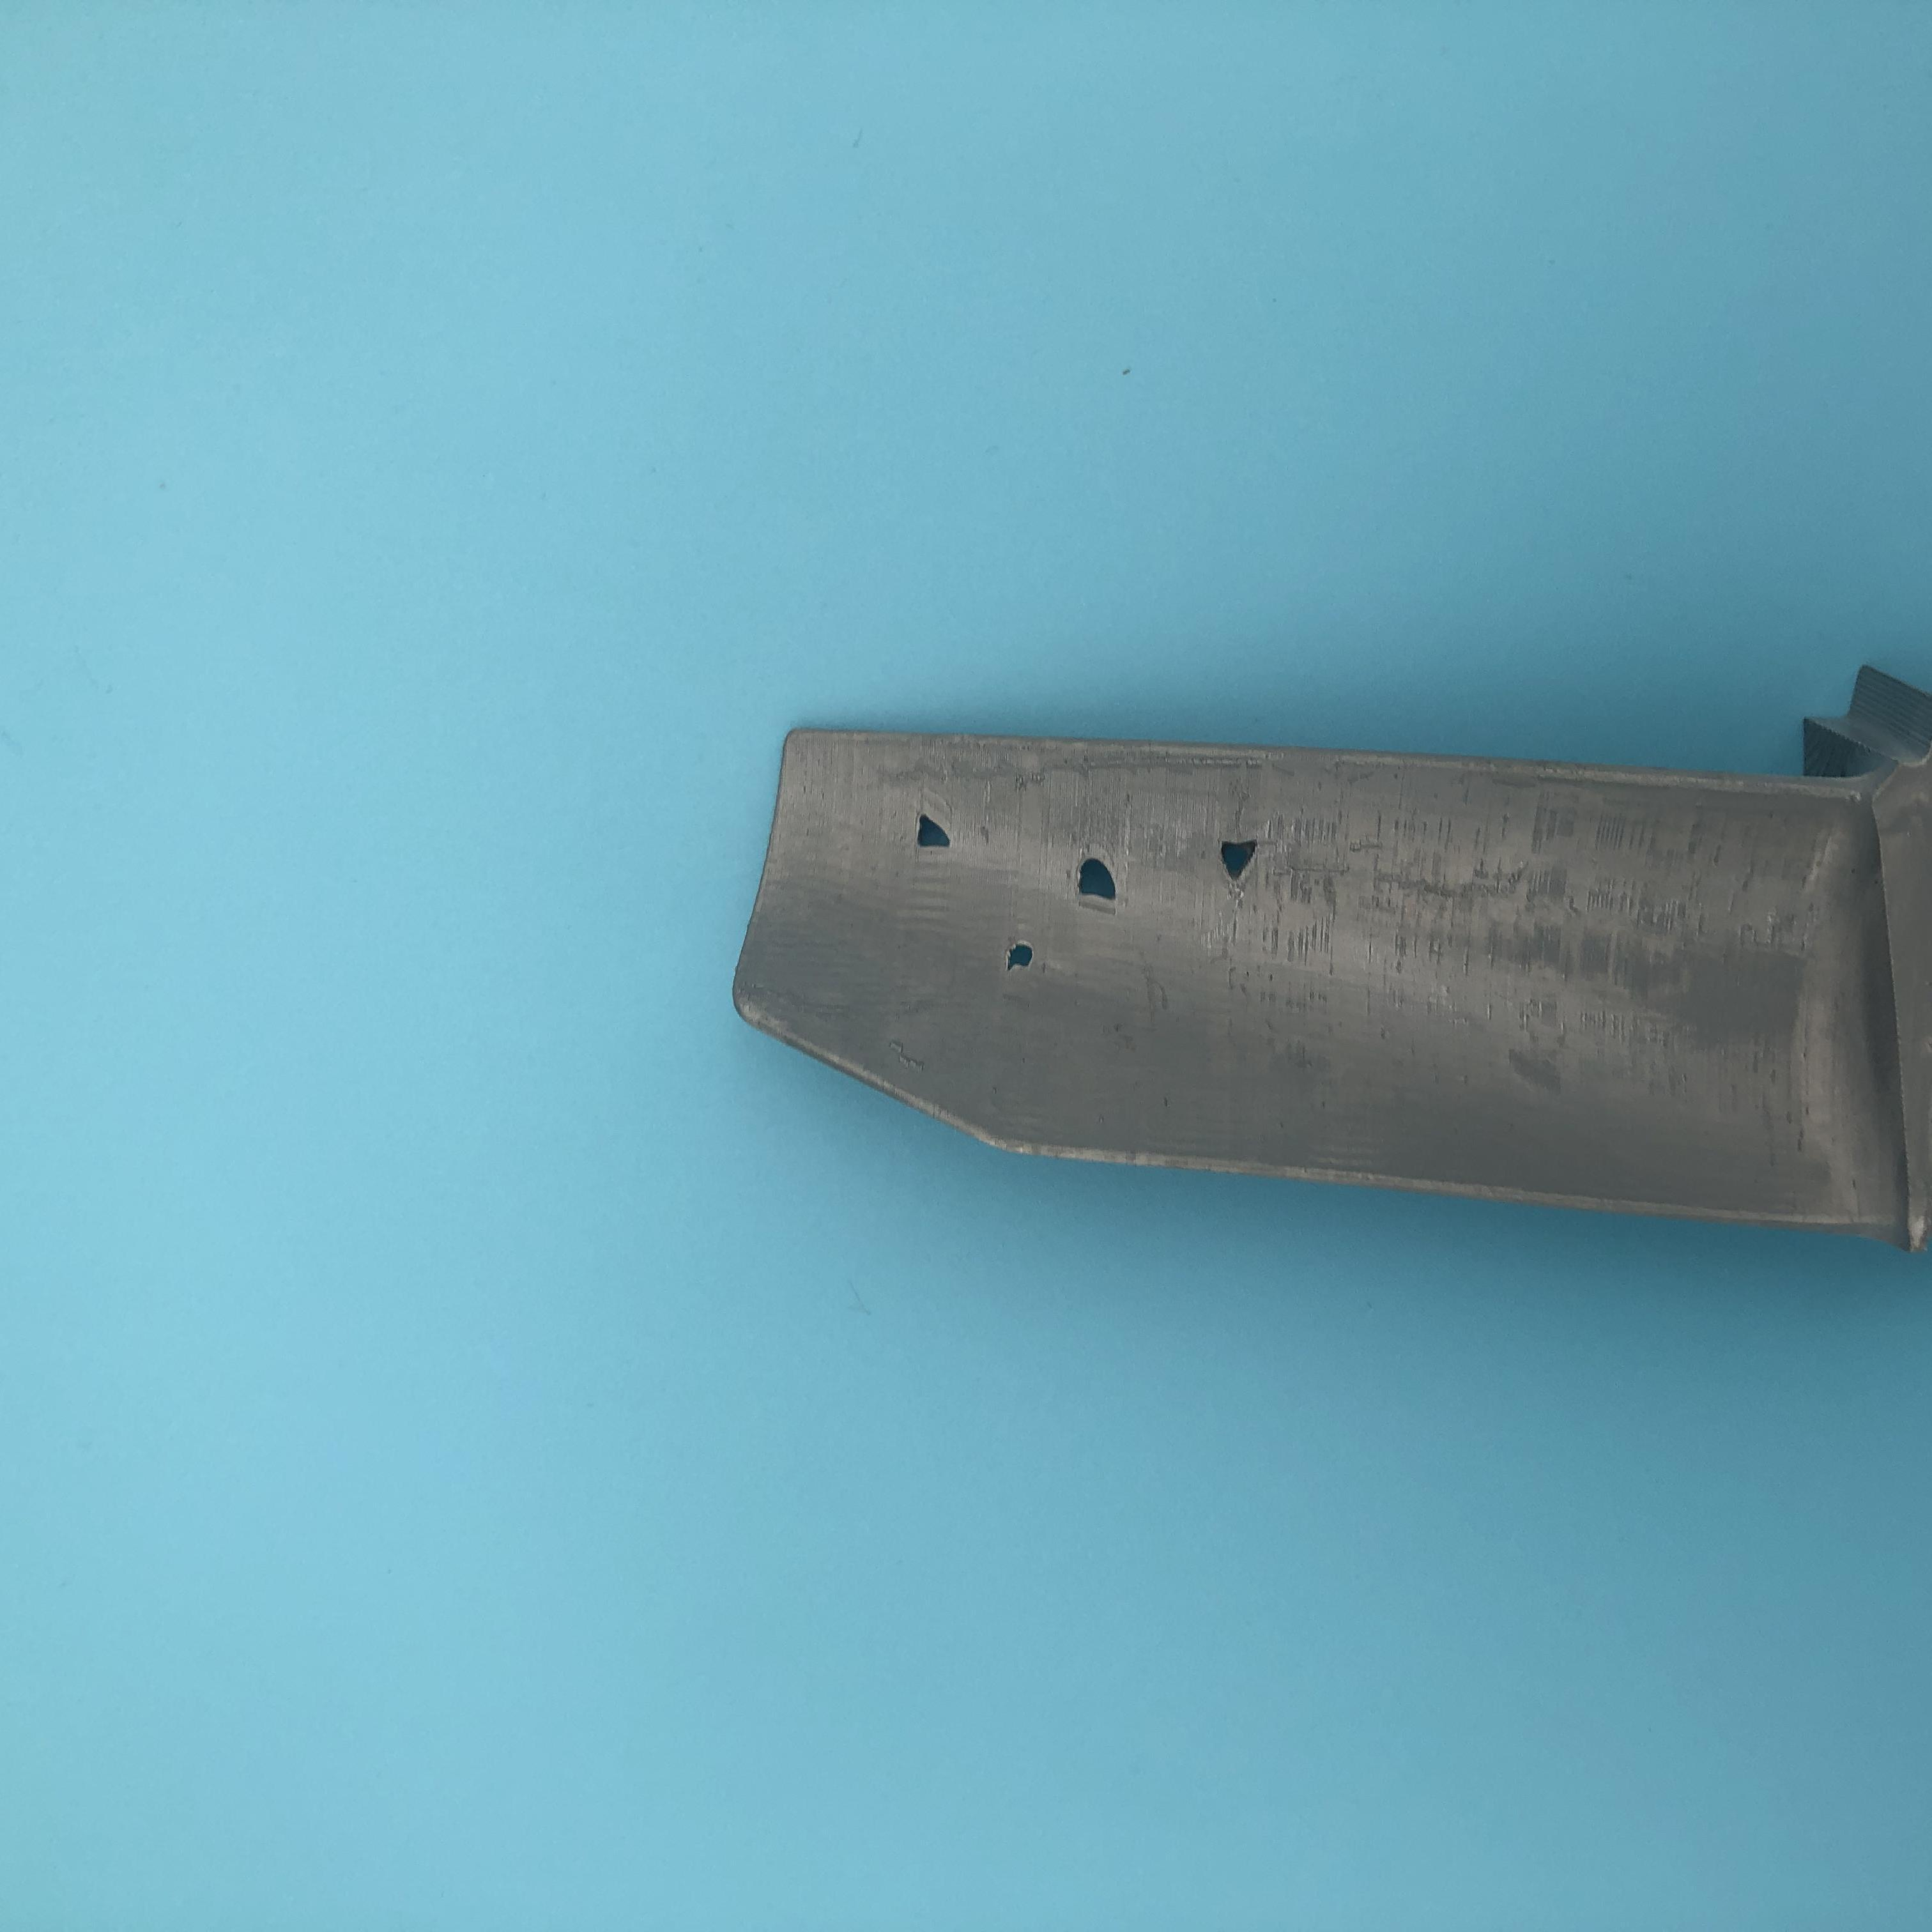breakdown: (913, 812, 1260, 970)
